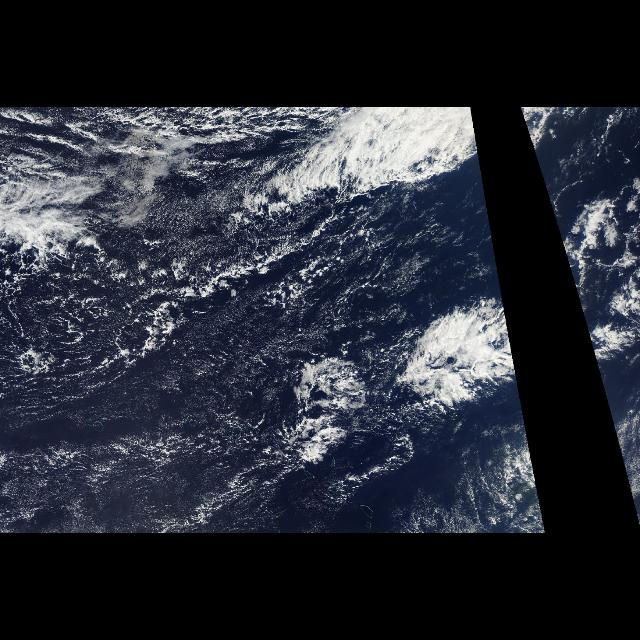Fish: (288, 271, 536, 477), (286, 109, 476, 187)
Gravel: (8, 238, 314, 366)
Sugar: (1, 107, 483, 533), (350, 430, 546, 532), (614, 430, 640, 526)
